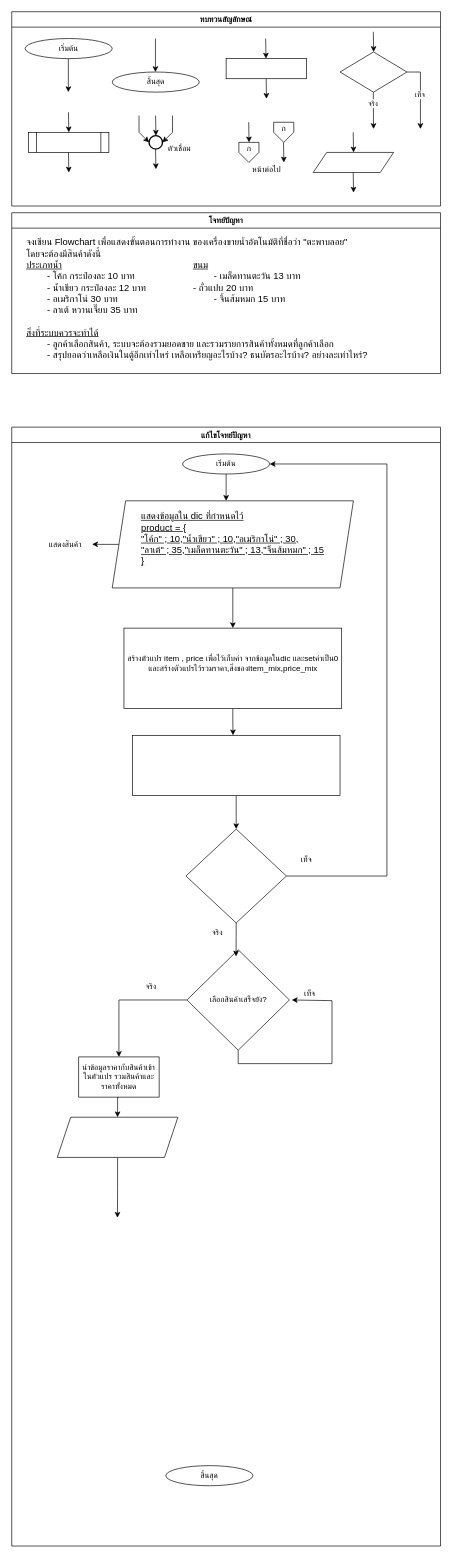
This 452x1558 diagram has some shape labels left out. Here are the shapes that lost their labels. From the top down, the centre of each, then its label:
At [266,68]: "กระบวนการ".
At [373,71]: "ประโยคเงื่อนไข".
At [68,142]: "ฟังก์ชัน/โมดูล".
At [353,162]: "แสดงผล/รับค่า".
At [236,765]: "ลูกค้าเลือกของ".
At [235,875]: "ลูกค้าเลือกของมั้ย".
At [117,1137]: "แสดงรายชื่อสินค้ากับราคาทั้งหมด".
